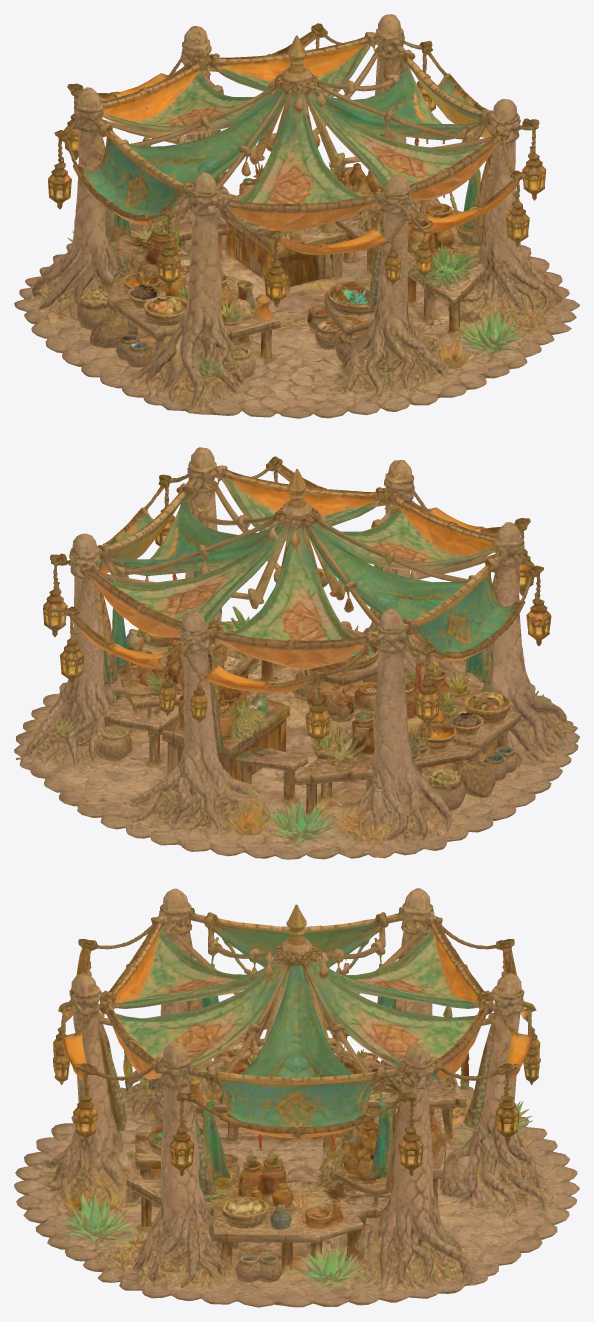
File: desert-market-pavilion.glb
3 renders of one model, top to bottom at view 1: azimuth 30°, elevation 25°; view 2: azimuth 150°, elevation 25°; view 3: azimuth 270°, elevation 25°, orthographic. The views are drawn at different scales.
Bounding box in the file's own units: 1.88 × 1.05 × 1.89.
Materials: 1 (1 with a texture image).
